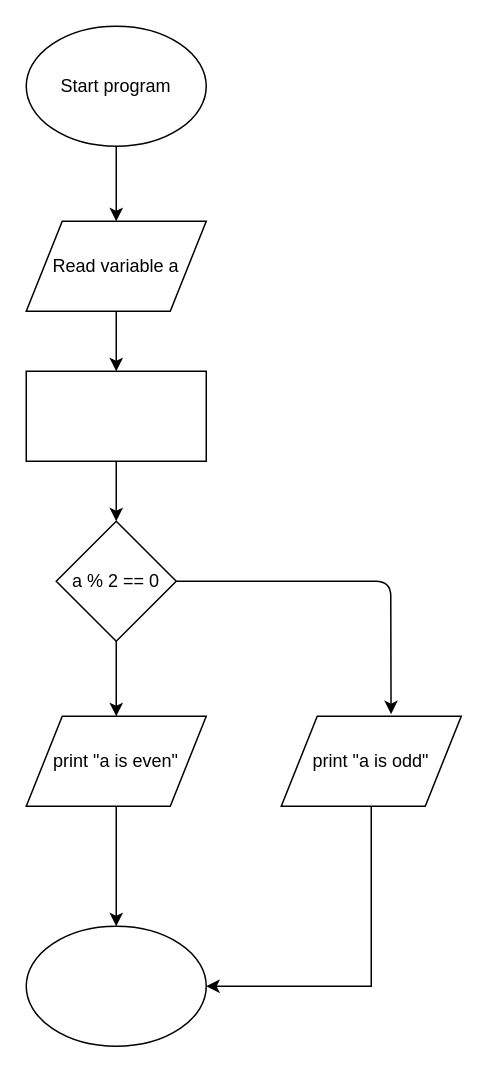
Image size: 488x1073. Some labels were removed from this diagram. Here are the shapes that lost their labels. From the top down, the centre of each, then its label:
the point at 115,415: Perform a = a * 3
the point at 115,985: End program
